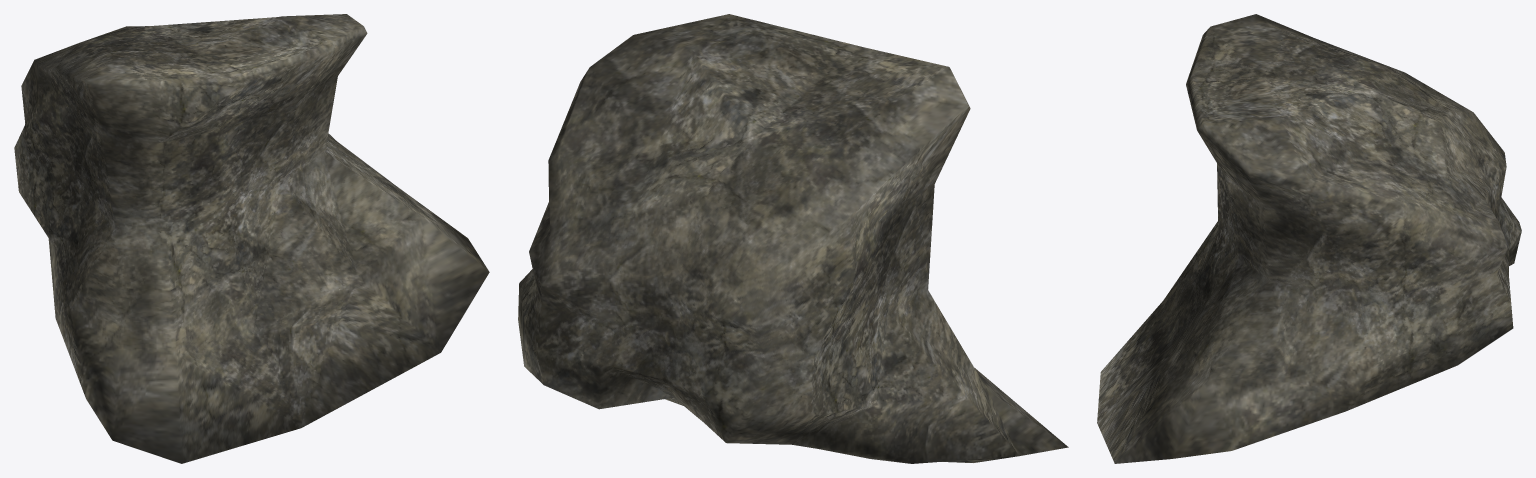
Rendered from RockB_03.glb.
3 views of the same model, side by side, from view 1: azimuth 30°, elevation 25°; view 2: azimuth 150°, elevation 25°; view 3: azimuth 270°, elevation 25° (orthographic). The views are drawn at different scales.
Visible parts, largest first — view 1: RockB_03.001; view 2: RockB_03.001; view 3: RockB_03.001.
Boxes of the visible parts, <box> form: RockB_03.001: <box>14,14,489,463</box>; RockB_03.001: <box>518,14,1068,463</box>; RockB_03.001: <box>1097,14,1521,463</box>.
Bounding box in the file's own units: 8.53 × 6.96 × 7.58.
1 material, 1 textured.
